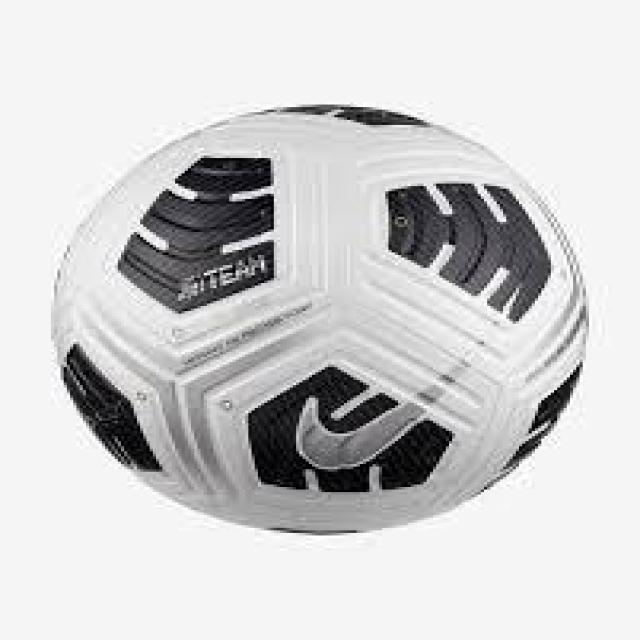Soccer Ball: (51, 97, 586, 533)
